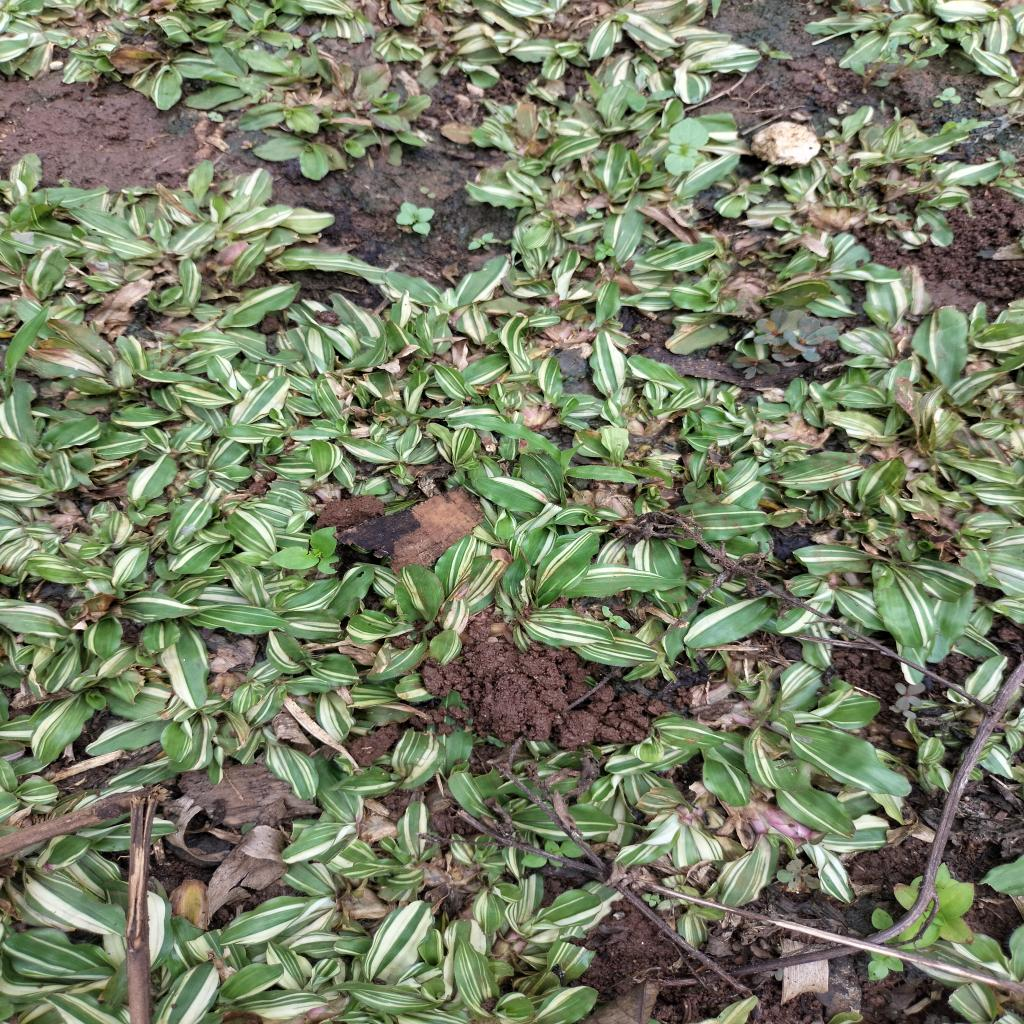bayi: (600, 602, 637, 632), (594, 233, 618, 263), (468, 232, 500, 252), (416, 183, 440, 201), (586, 205, 605, 219)
buah daun: (733, 304, 846, 386)
gingseng jawa: (862, 32, 953, 88), (617, 67, 678, 114)
rambat atas: (0, 297, 58, 398)
rambat bawah: (442, 412, 646, 490)
